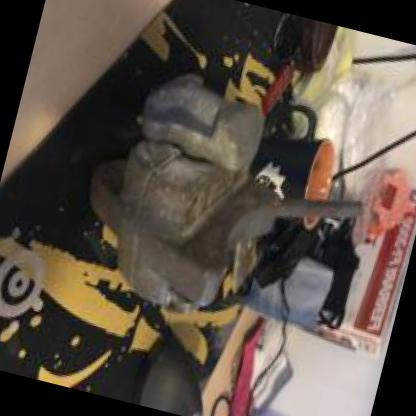Twistlock: (59, 41, 389, 352)
